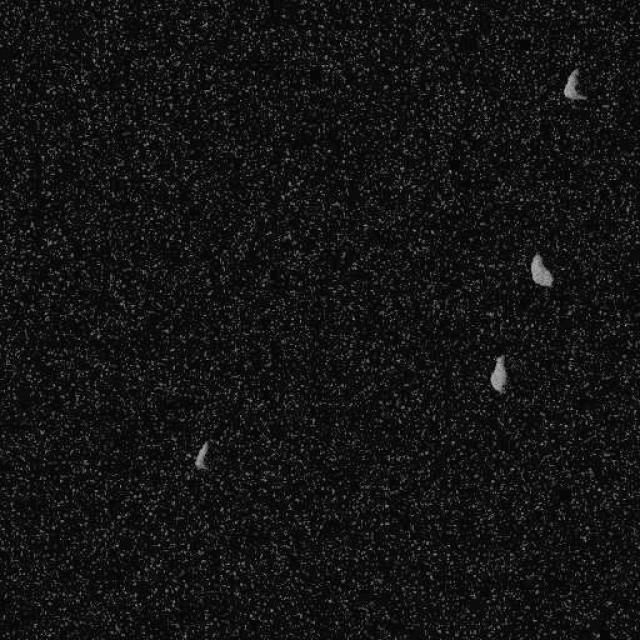D2: (528, 252, 554, 288), (488, 353, 508, 392), (562, 68, 586, 100), (192, 439, 212, 470)
